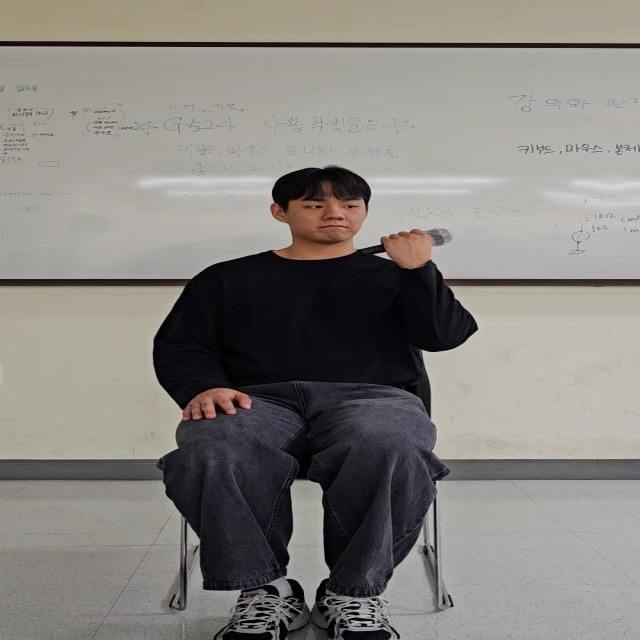curl: (341, 187, 509, 367)
